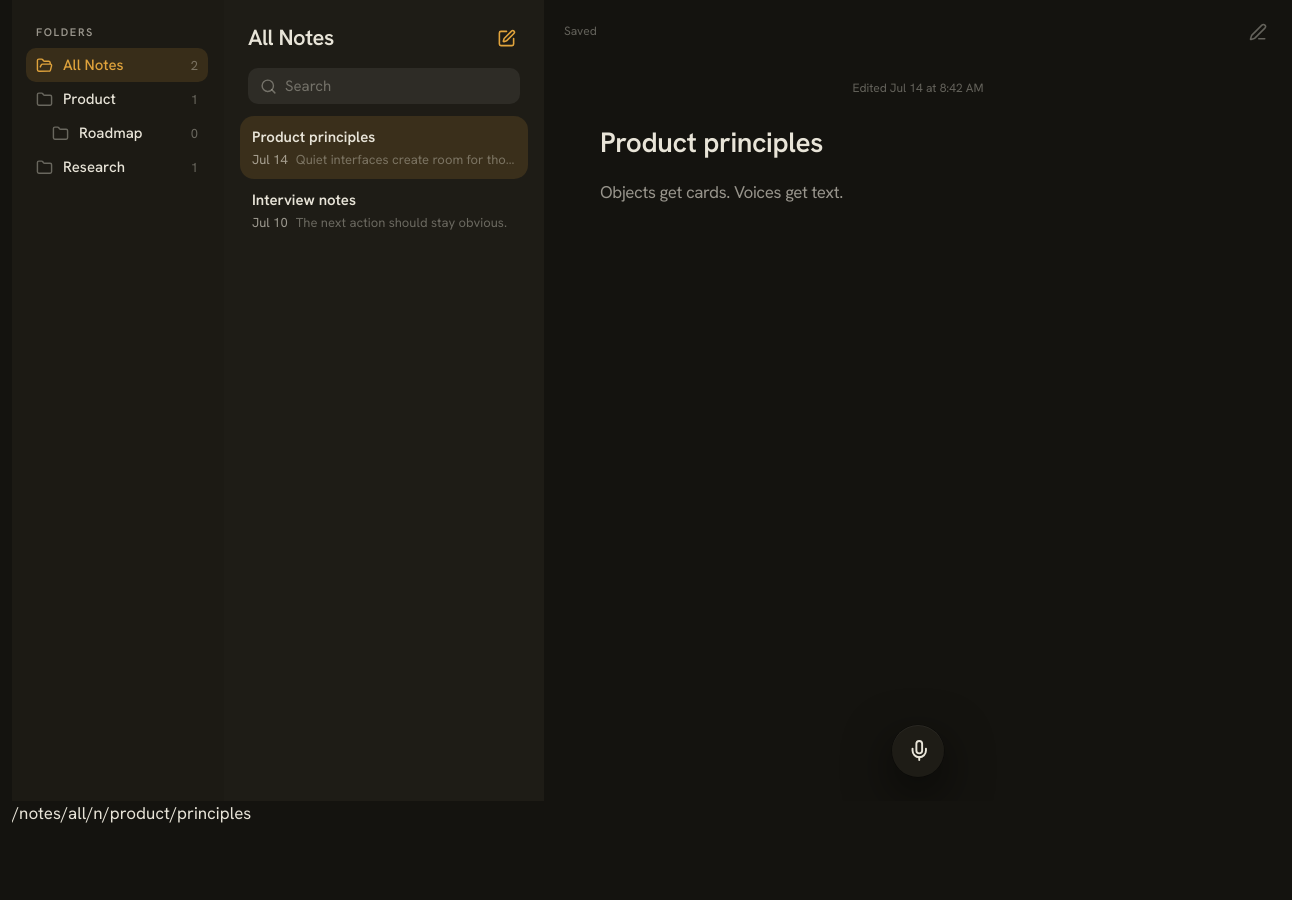
Test case: Notes page › refreshes a clean same-path editor when an external revision is refetched
expect the field showing "Product principles" is shown: met, box [600,126,1236,158]
Click the button named "Edit note" at (1258, 32), box [1240,14,1276,50]
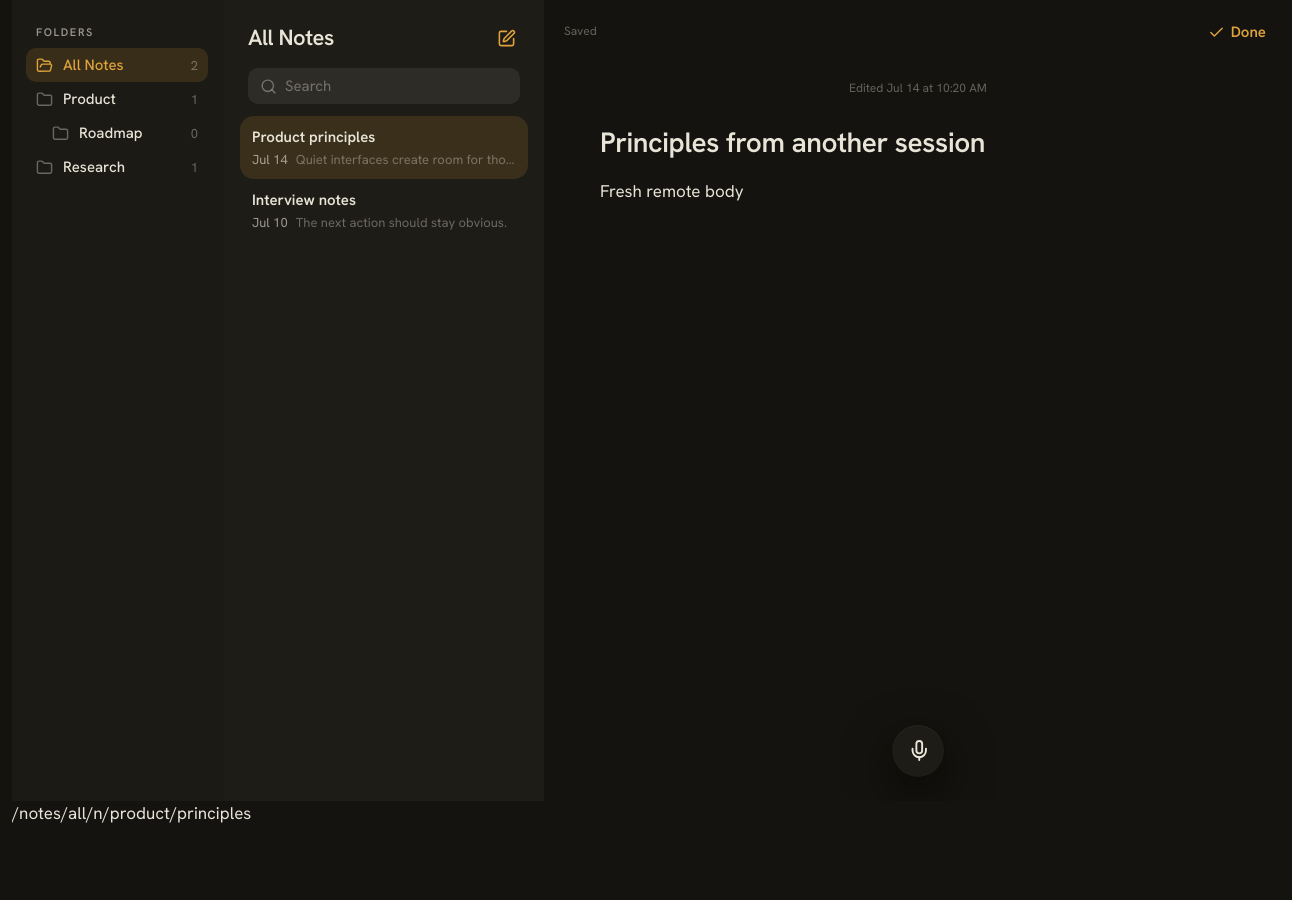
expect the field showing "Principles from another session" is shown: met, box [600,126,1236,158]
expect the text box named "Note body" holds "Fresh remote body": met, box [600,178,1236,673]
